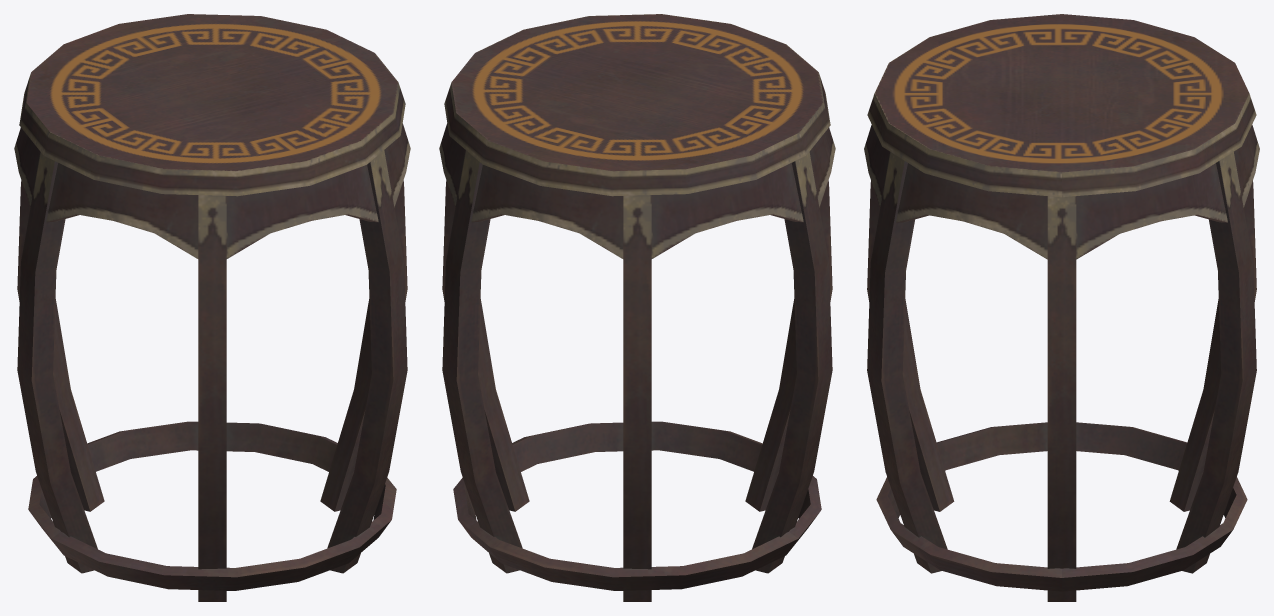
Rendered from MT_jiaju_dengzi_01.FBX.
The picture shows the model from 3 angles, left to right: view 1: azimuth 30°, elevation 25°; view 2: azimuth 150°, elevation 25°; view 3: azimuth 270°, elevation 25°; orthographic projection.
Parts seen in each view (by area): view 1: MT_jiaju_dengzi_01; view 2: MT_jiaju_dengzi_01; view 3: MT_jiaju_dengzi_01.
Part boxes in pixels (bbox=[...]): MT_jiaju_dengzi_01: bbox=[14, 14, 410, 601]; MT_jiaju_dengzi_01: bbox=[439, 14, 835, 601]; MT_jiaju_dengzi_01: bbox=[864, 14, 1259, 601].
Bounding box in the file's own units: 45.07 × 50.65 × 41.16.
